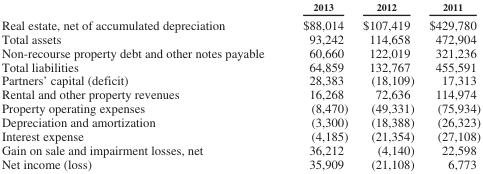table: (0, 0, 479, 170)
table column: (0, 0, 282, 170), (282, 0, 354, 170), (354, 0, 421, 170), (421, 0, 479, 170)
table column header: (0, 0, 479, 14)
table row: (0, 14, 479, 31), (0, 0, 479, 14), (0, 31, 479, 45), (0, 45, 479, 59), (0, 59, 479, 73), (0, 73, 479, 87), (0, 87, 479, 101), (0, 114, 479, 128), (0, 128, 479, 142), (0, 142, 479, 156), (0, 156, 479, 170), (0, 101, 479, 114)
